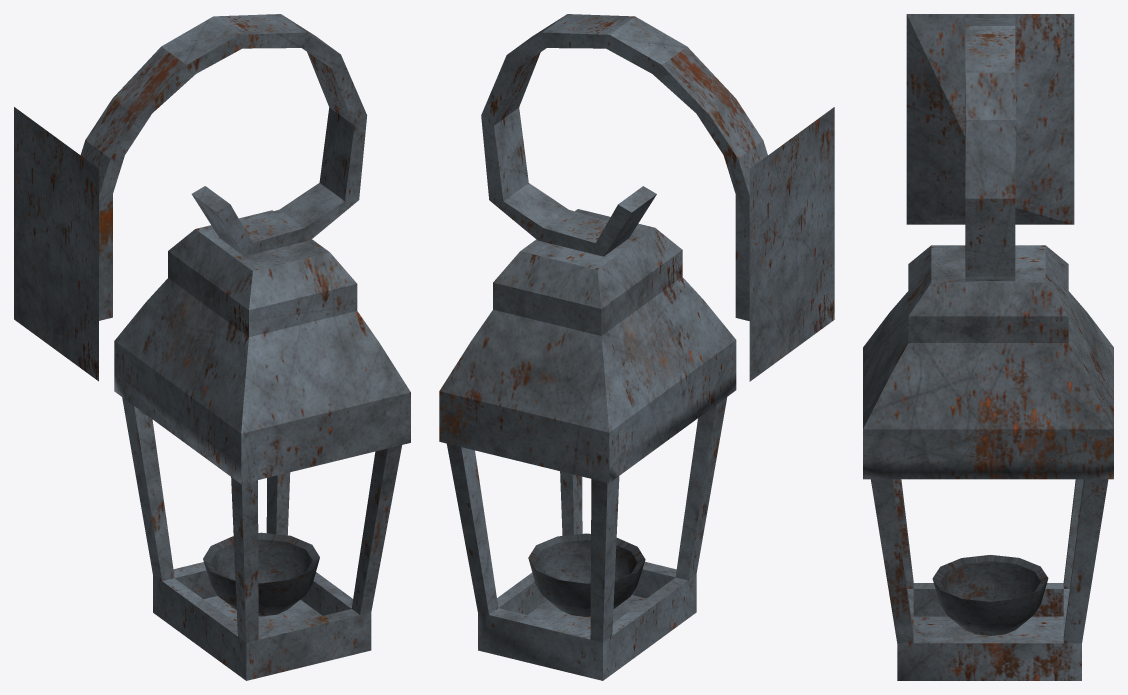
Rendered from Outdoor-Light.fbx.
The picture shows the model from 3 angles, left to right: view 1: azimuth 30°, elevation 25°; view 2: azimuth 150°, elevation 25°; view 3: azimuth 270°, elevation 25°; orthographic projection.
Visible parts, largest first — view 1: Light_Body, Place_Light; view 2: Light_Body, Place_Light; view 3: Light_Body, Place_Light.
Boxes of the visible parts, box(x1,y1,x2,y2) form: Light_Body: box(14, 14, 410, 680); Place_Light: box(203, 532, 319, 616); Light_Body: box(439, 14, 834, 680); Place_Light: box(528, 533, 645, 616); Light_Body: box(863, 14, 1113, 680); Place_Light: box(932, 555, 1048, 635).
Bounding box in the file's own units: 30.37 × 59.79 × 22.37.
Materials: 2 (2 with a texture image).
